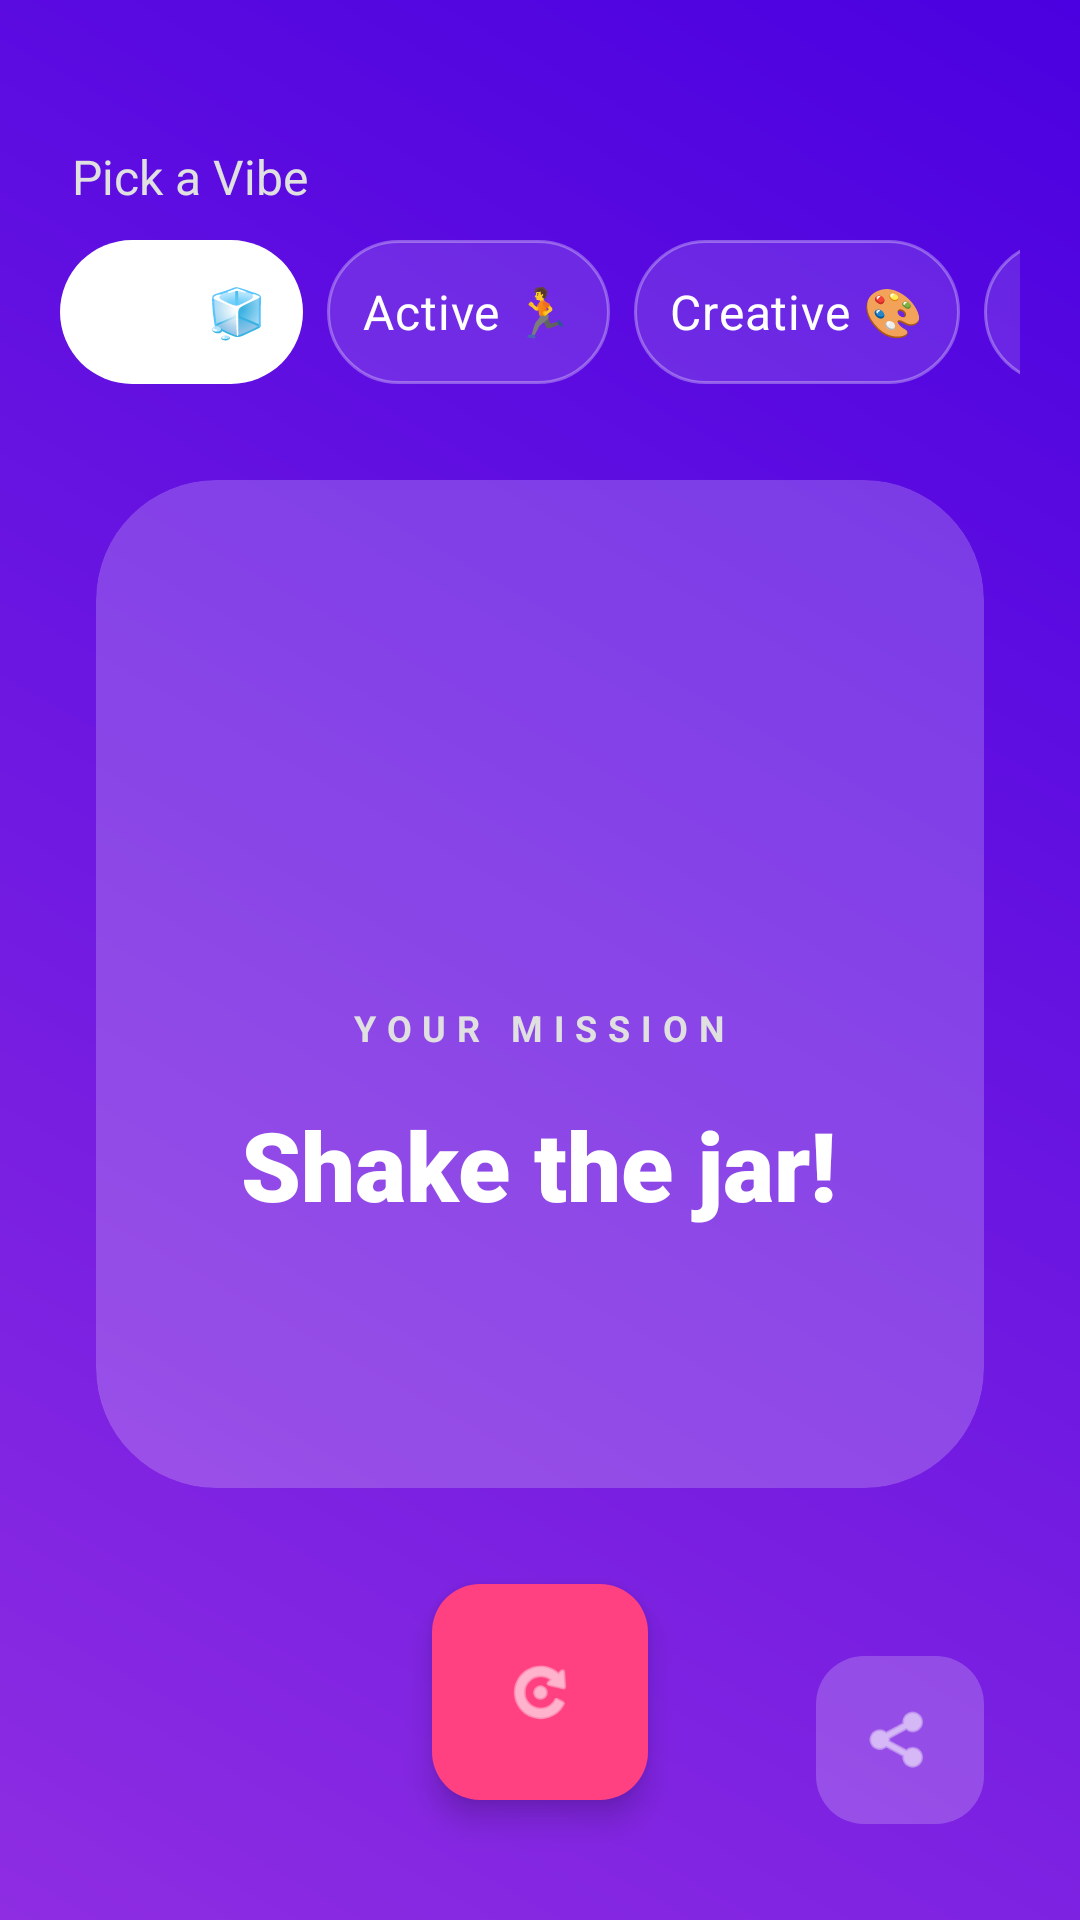

Named icons in this screenshot (1080*1920) and their centers, (x,y):
Generate New Mission: (540,1692)
Share Mission: (900,1740)
